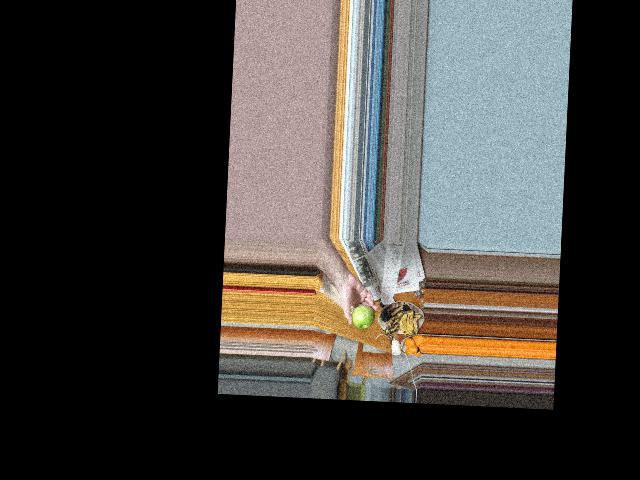apple: (351, 305, 375, 329)
